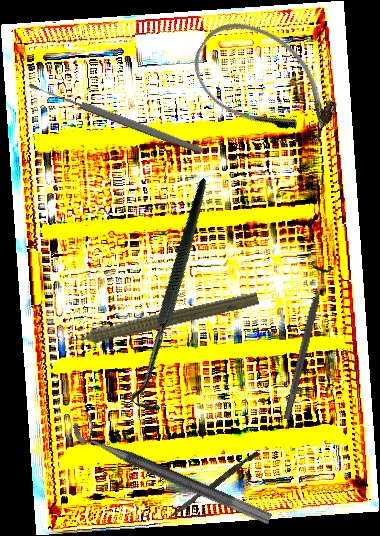Cannula: (178, 4, 353, 162)
Fixation Ring: (67, 408, 281, 526), (273, 261, 336, 423)
Handpiece: (53, 284, 261, 355)
Hook Surgical: (57, 178, 297, 419)
Pusher: (166, 448, 260, 524)
Surgical Spoon: (27, 80, 205, 156)
